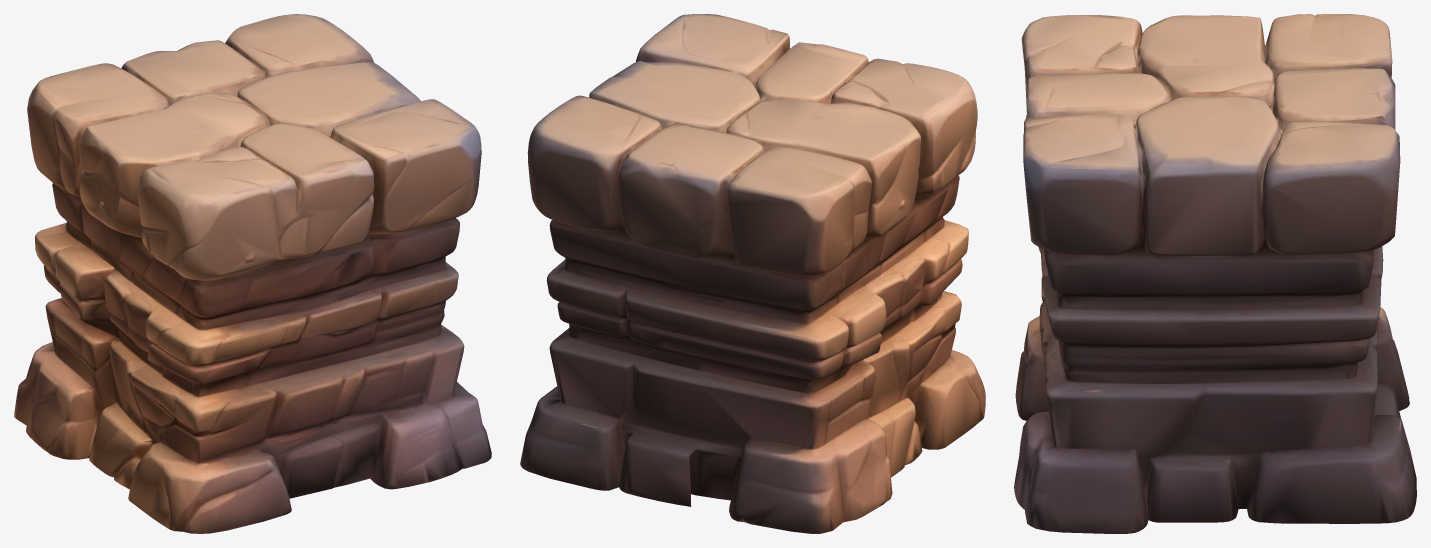
File: cliff.glb
3 views of the same model, side by side, from view 1: azimuth 30°, elevation 25°; view 2: azimuth 150°, elevation 25°; view 3: azimuth 270°, elevation 25° (orthographic). The views are drawn at different scales.
Visible parts, largest first — view 1: node_0; view 2: node_0; view 3: node_0.
Part boxes in pixels (left/top/right/bottom): node_0: left=14, top=14, right=491, bottom=533; node_0: left=520, top=14, right=985, bottom=533; node_0: left=1014, top=14, right=1416, bottom=533.
Size of the model in its own units: 0.7613 by 0.7119 by 0.7276.
1 material, 1 textured.
